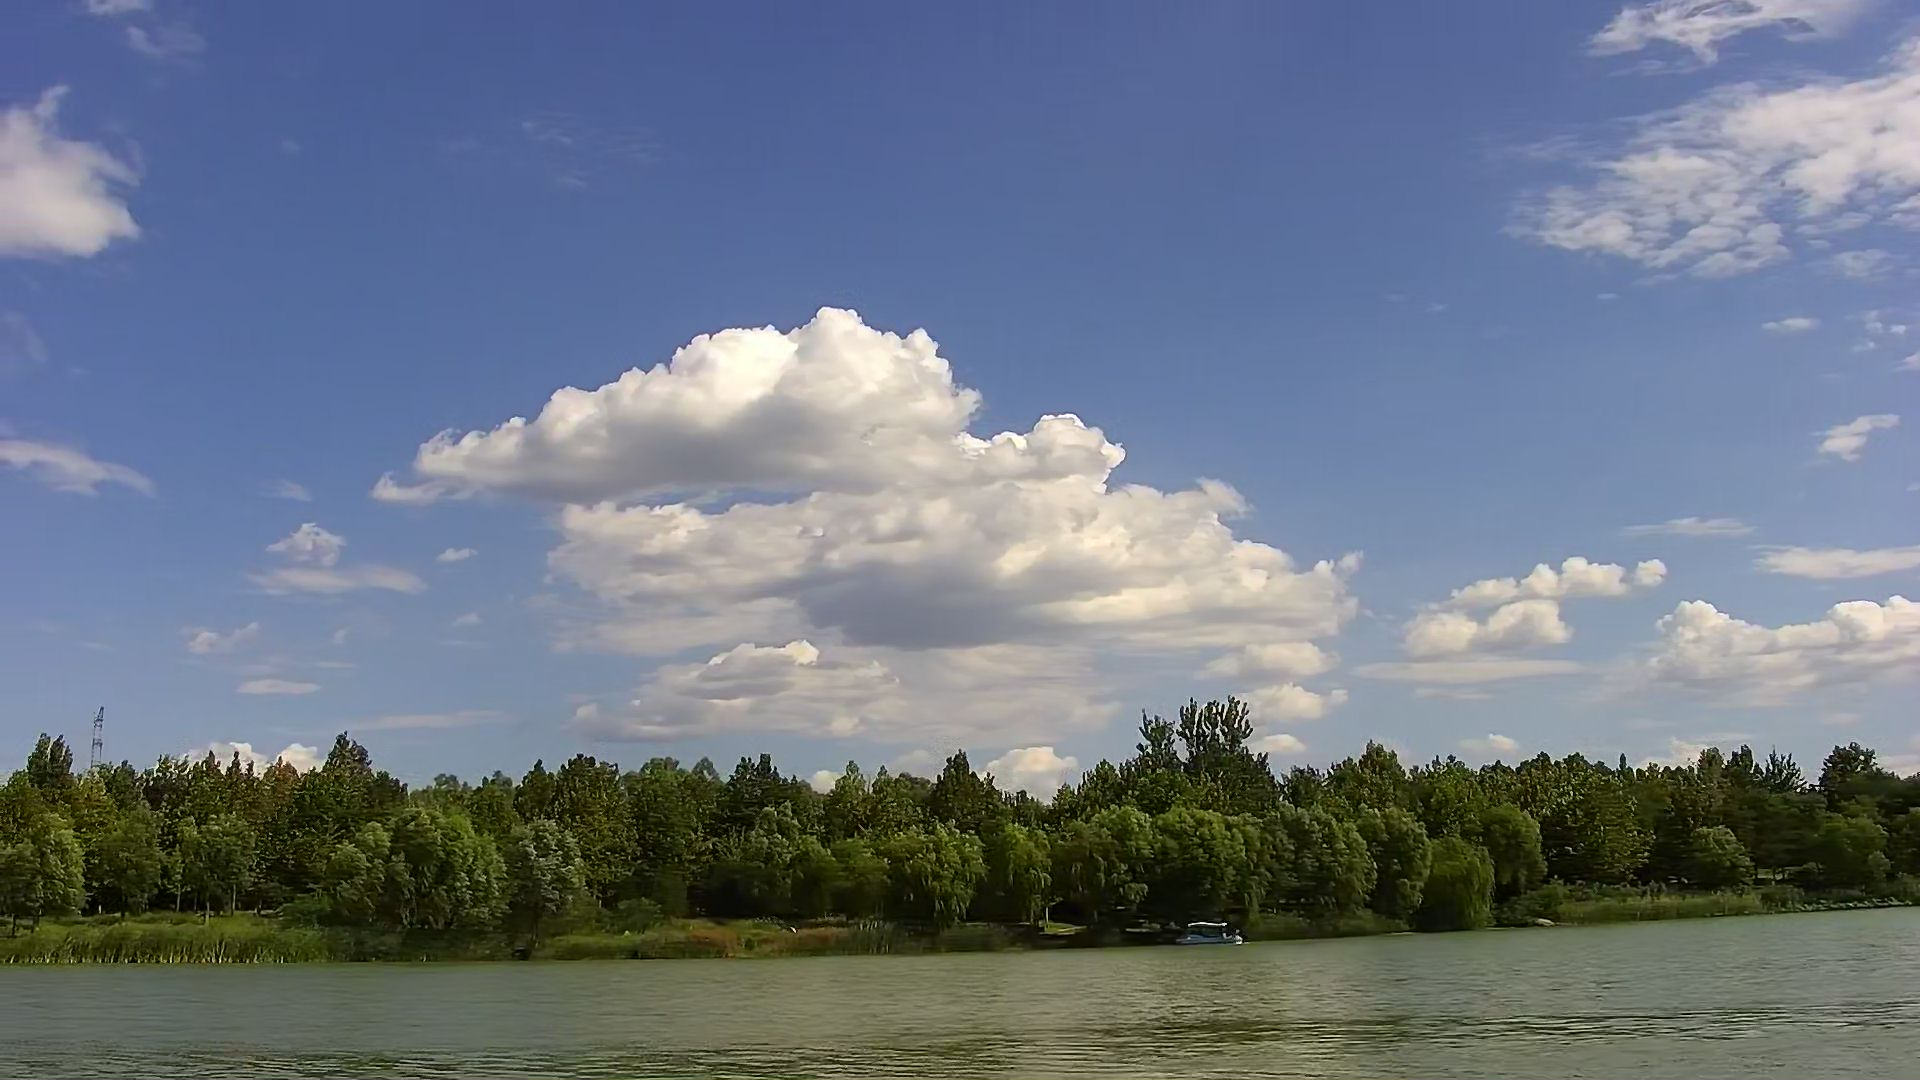boat: (1172, 918, 1244, 948)
